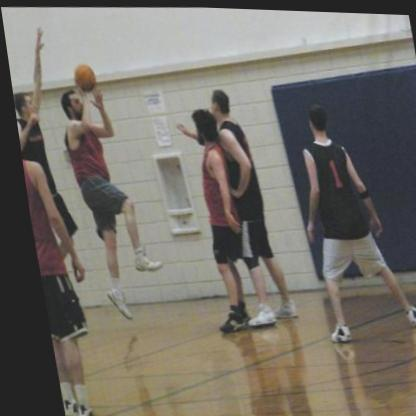basketball: (68, 62, 99, 93)
